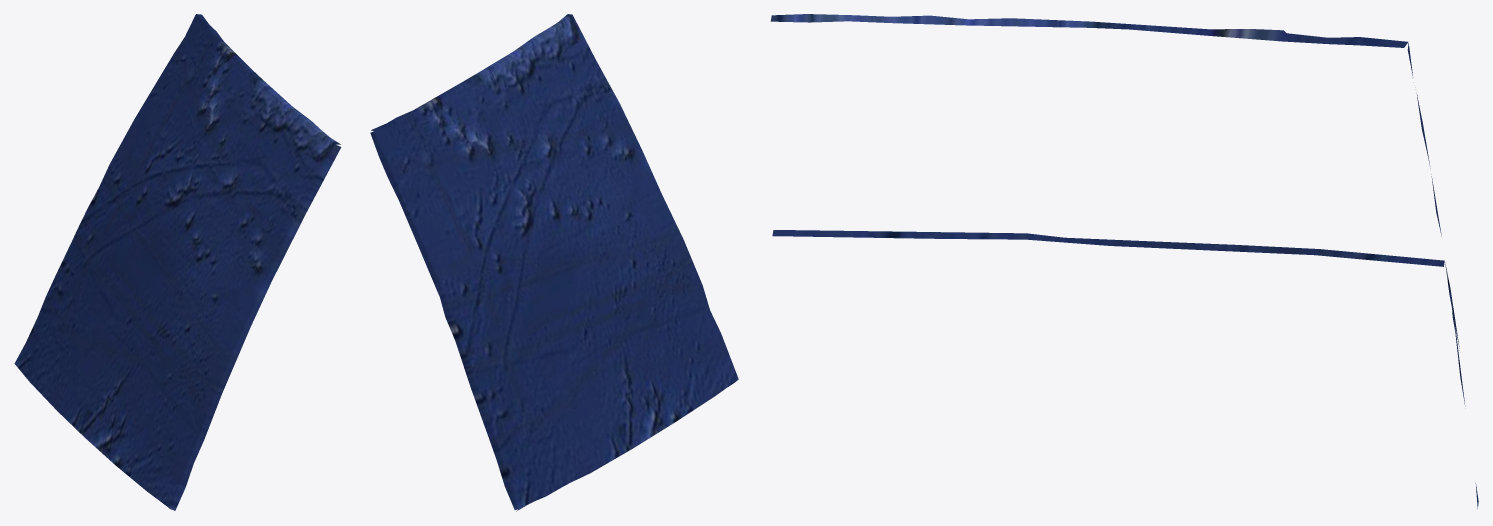
The picture shows the model from 3 angles, left to right: view 1: azimuth 30°, elevation 25°; view 2: azimuth 150°, elevation 25°; view 3: azimuth 270°, elevation 25°; orthographic projection. The views are drawn at different scales.
Size of the model in its own units: 710957 by 1119021 by 1164328.
Materials: 1 (1 with a texture image).
